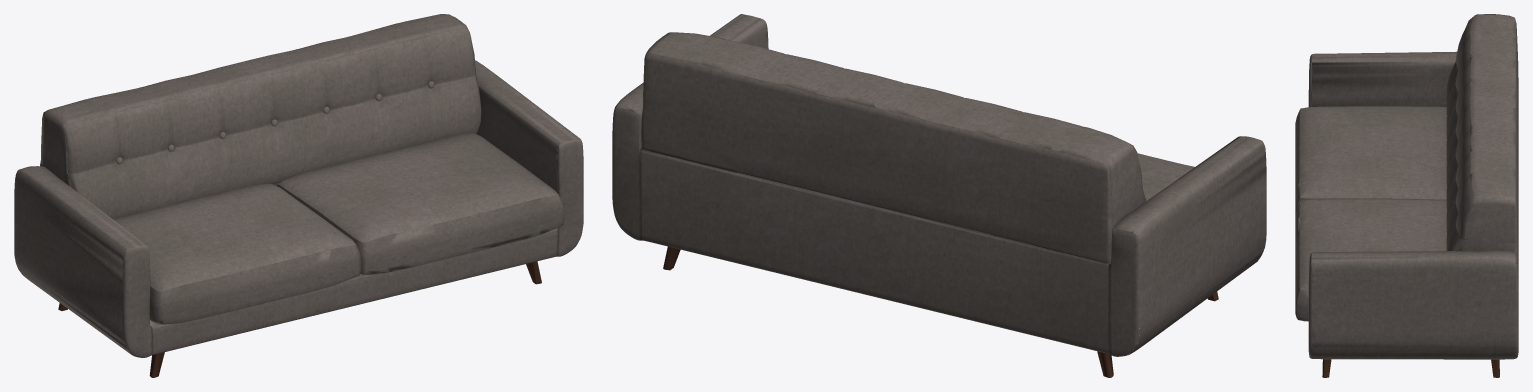
3 views of the same model, side by side, from view 1: azimuth 30°, elevation 25°; view 2: azimuth 150°, elevation 25°; view 3: azimuth 270°, elevation 25° (orthographic). The views are drawn at different scales.
Visible parts, largest first — view 1: RootNode; view 2: RootNode; view 3: RootNode.
Boxes of the visible parts, left/top/right/bottom form: RootNode: left=14, top=14, right=583, bottom=377; RootNode: left=612, top=14, right=1266, bottom=377; RootNode: left=1295, top=14, right=1518, bottom=377.
Bounding box in the file's own units: 2.03 × 0.841 × 0.9096.
1 material, 1 textured.
